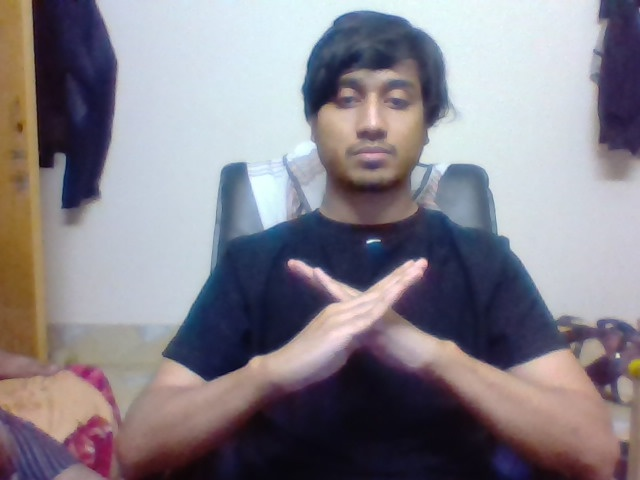X: (263, 245, 478, 391)
